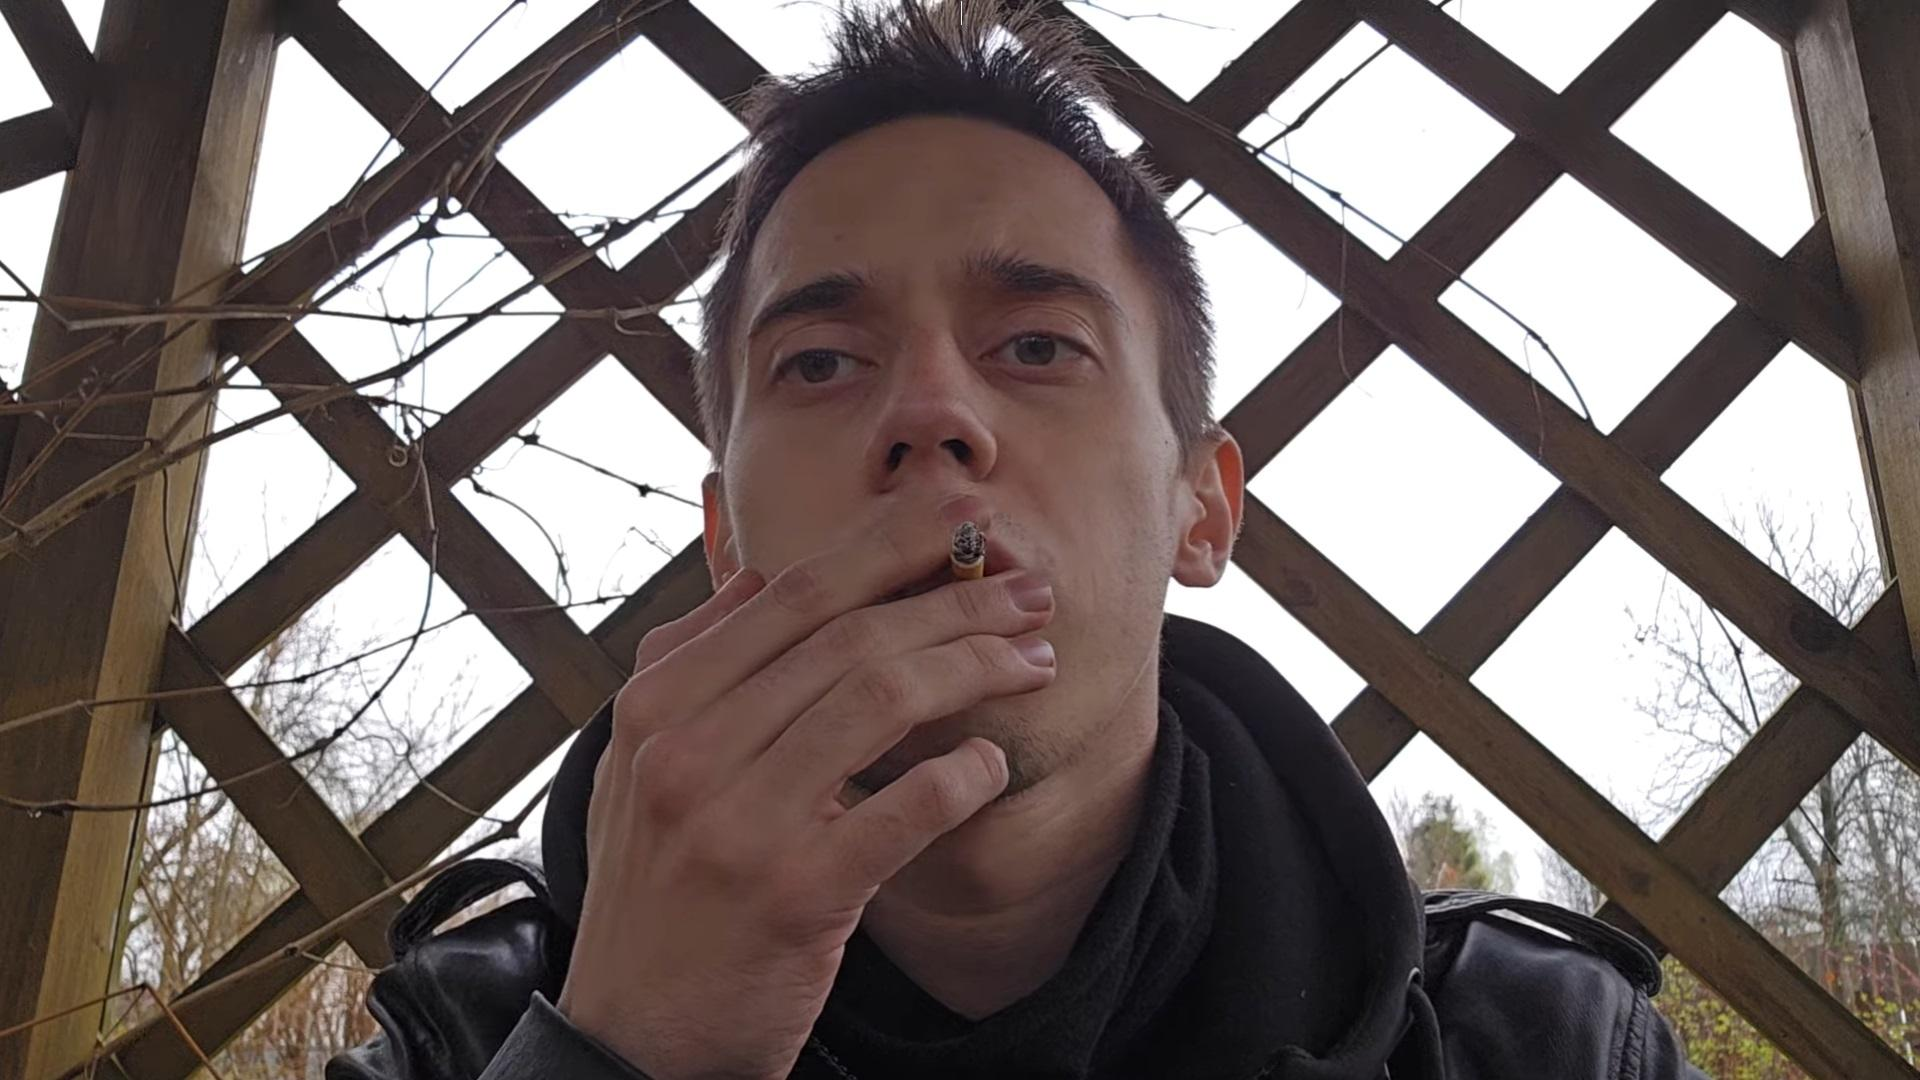cigarette: (952, 521, 986, 582)
